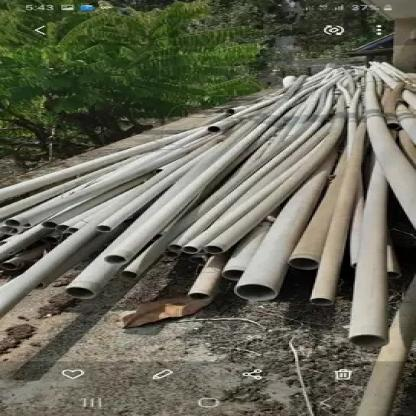PVC: (0, 62, 414, 415)
